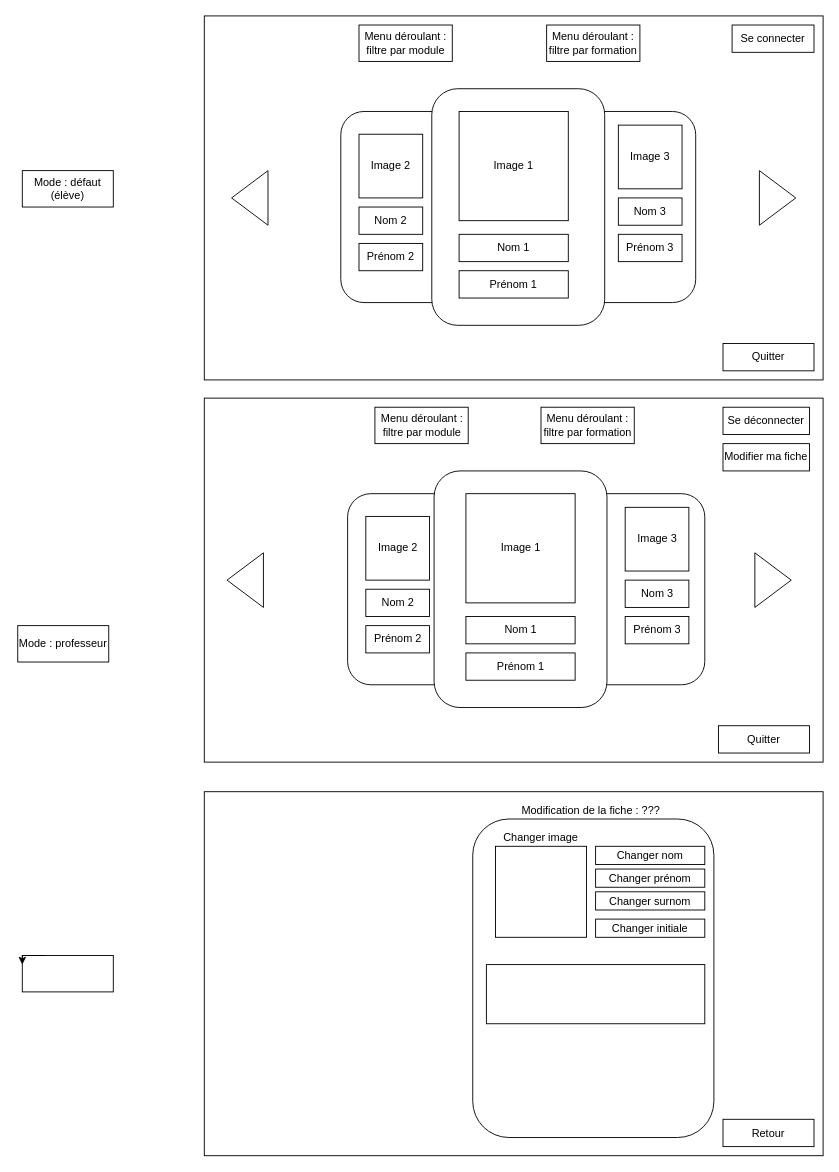
Image size: 839x1172. Some labels were removed from this diagram. Each missing label, with the centre of its shape:
Changer description: [595,994]
Mode : secrétaire: [67,973]
